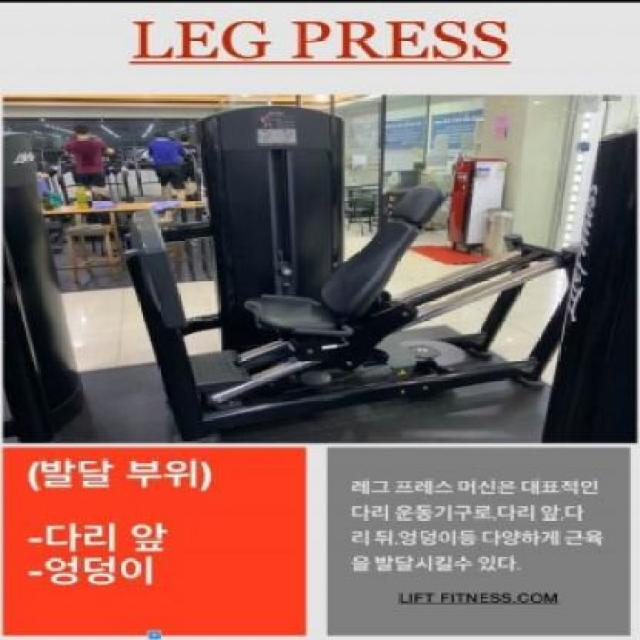leg press: (126, 105, 584, 442)
